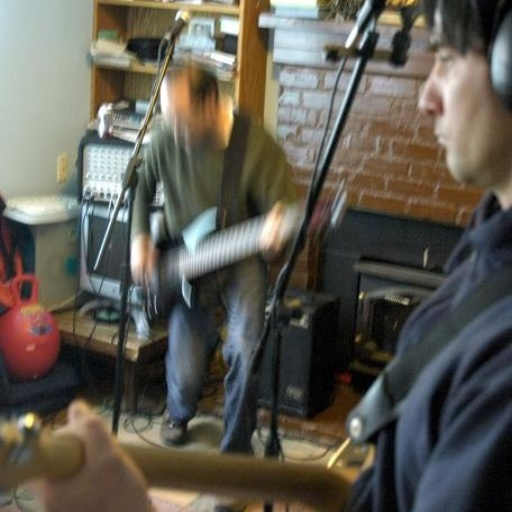hand: (31, 399, 154, 510), (125, 232, 159, 284), (259, 195, 282, 256)
